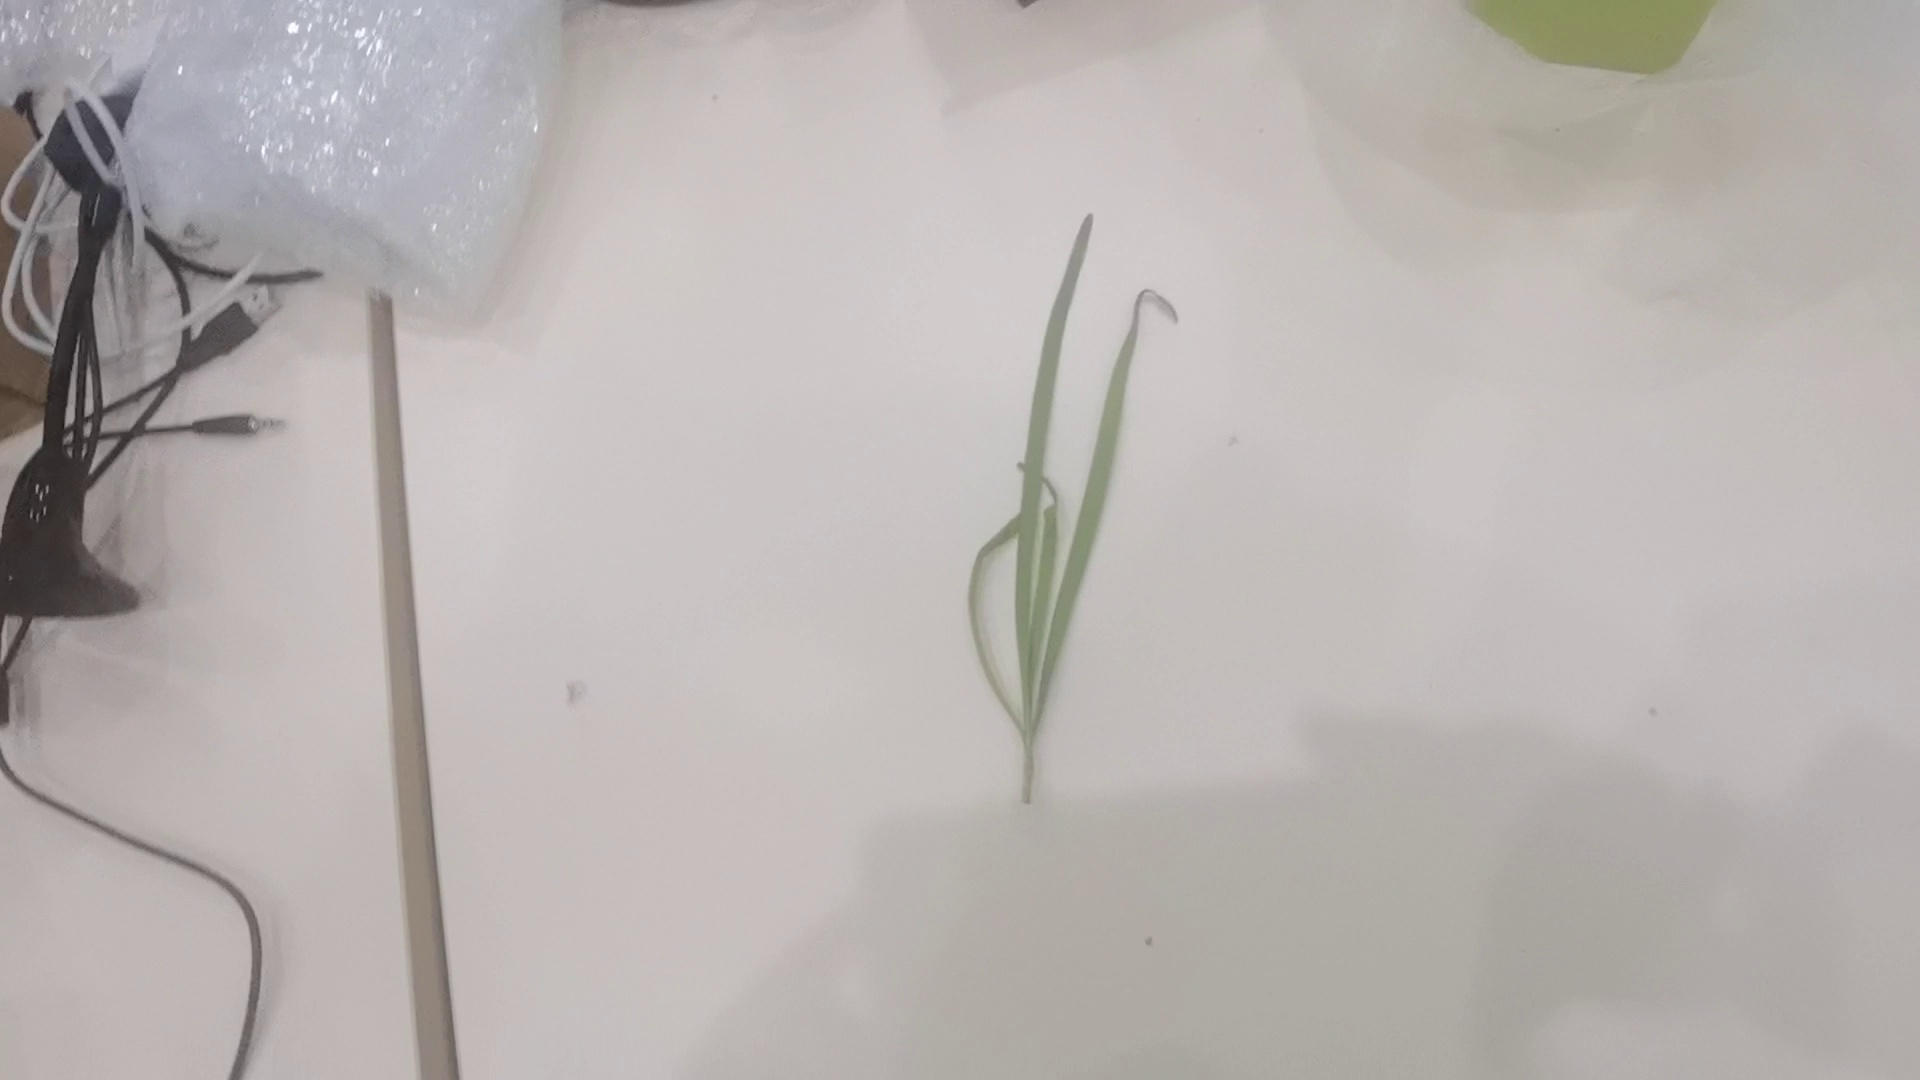chives: (916, 198, 1205, 831)
